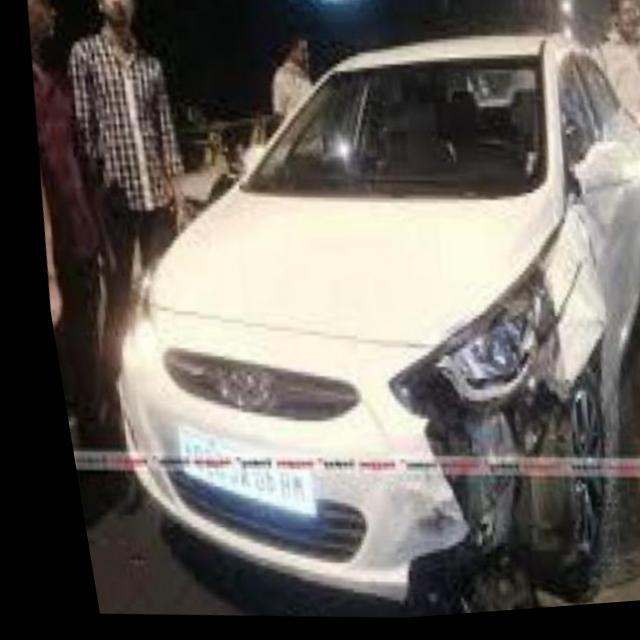no part: (371, 224, 602, 621)
